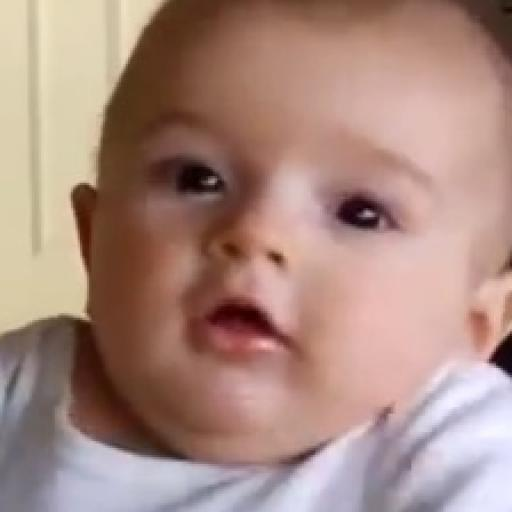Autism: (90, 17, 512, 479)
